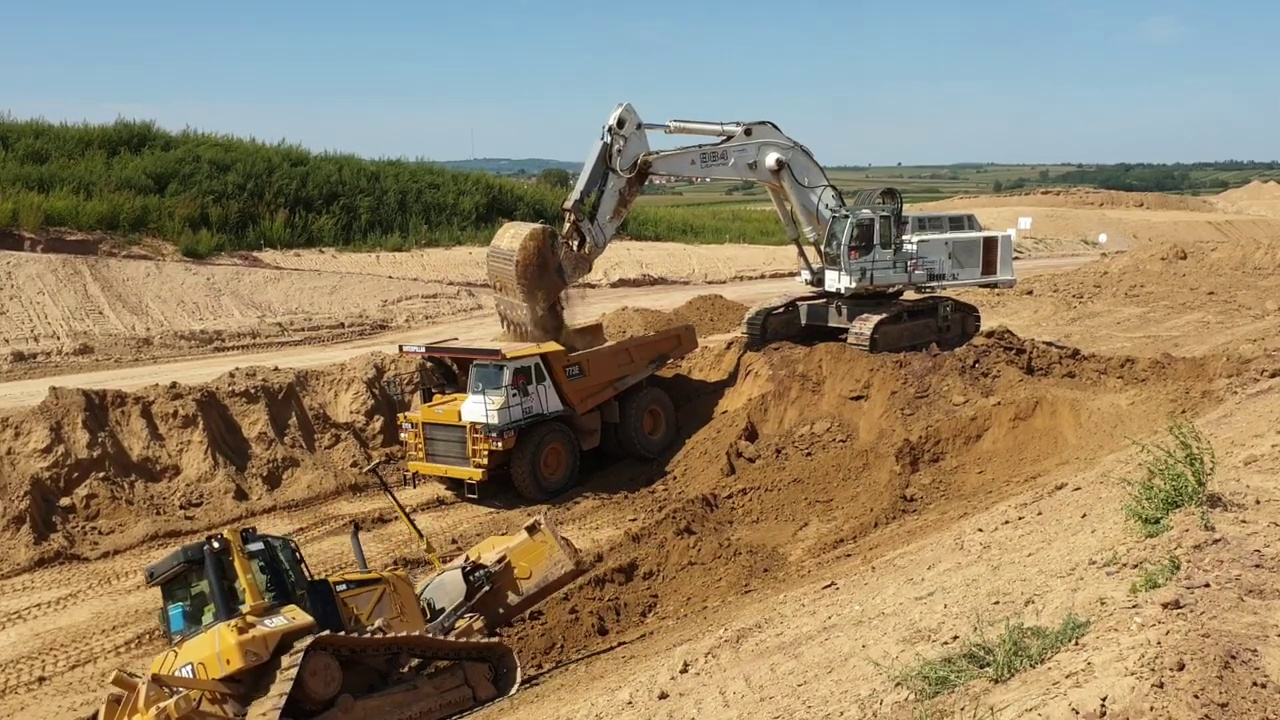bulldozer: (88, 459, 582, 720)
excavator: (476, 96, 1022, 358)
truck: (394, 321, 705, 510)
